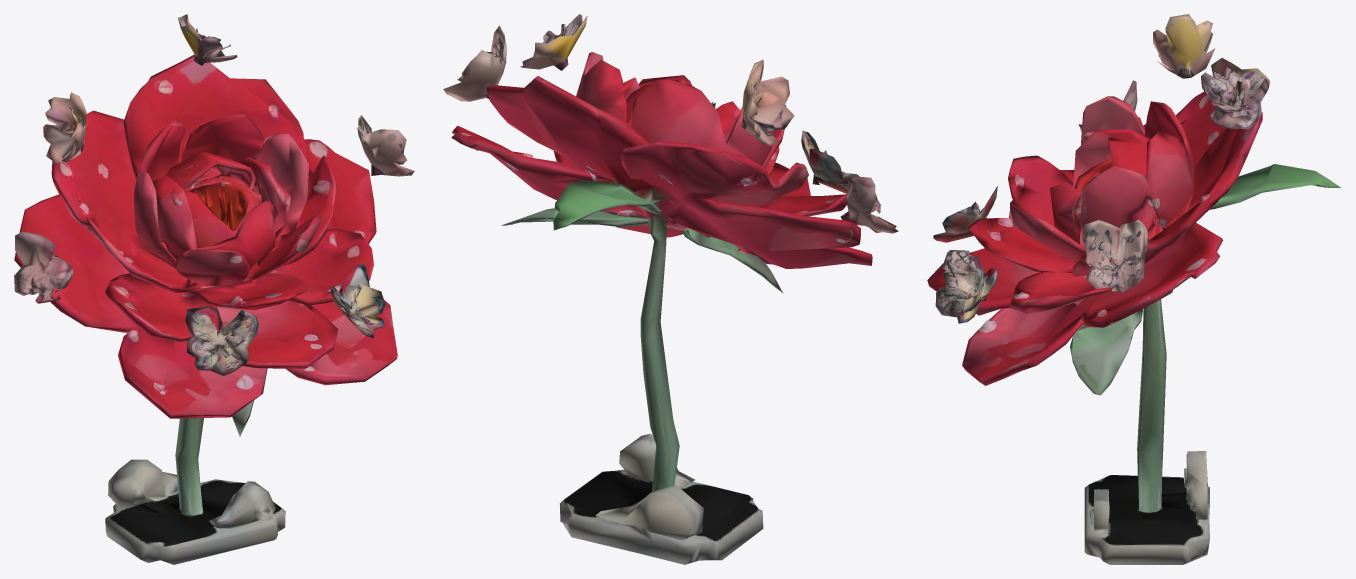
Rendered from ss_hongyan.glb.
The picture shows the model from 3 angles, left to right: view 1: azimuth 30°, elevation 25°; view 2: azimuth 150°, elevation 25°; view 3: azimuth 270°, elevation 25°; orthographic projection. The views are drawn at different scales.
Parts seen in each view (by area): view 1: tripo_node_573c3412-5d53-4936-b111-f3ea93ffb4e3; view 2: tripo_node_573c3412-5d53-4936-b111-f3ea93ffb4e3; view 3: tripo_node_573c3412-5d53-4936-b111-f3ea93ffb4e3.
Part boxes in pixels (box(x1,y1,x2,y2)): tripo_node_573c3412-5d53-4936-b111-f3ea93ffb4e3: box(14, 14, 414, 564); tripo_node_573c3412-5d53-4936-b111-f3ea93ffb4e3: box(443, 14, 898, 564); tripo_node_573c3412-5d53-4936-b111-f3ea93ffb4e3: box(927, 14, 1341, 564).
Bounding box in the file's own units: 0.8642 × 0.9996 × 0.7711.
Materials: 1 (1 with a texture image).
